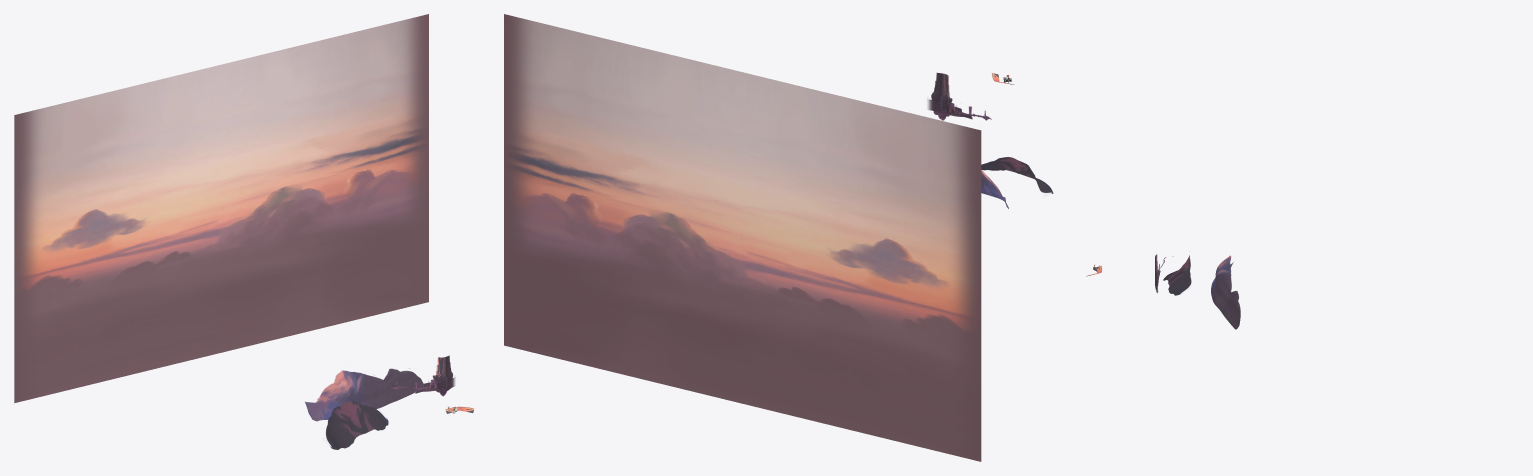
File: tableaux-factions-2048.glb
3 renders of one model, left to right at view 1: azimuth 30°, elevation 25°; view 2: azimuth 150°, elevation 25°; view 3: azimuth 270°, elevation 25°, orthographic. The views are drawn at different scales.
Visible parts, largest first — view 1: sky_bg, mountain_02, mountain_01, main_base; view 2: sky_bg, main_base, mountain_01; view 3: mountain_02, mountain_01.
Boxes of the visible parts, x1=… form: sky_bg: x1=14, y1=14, x2=428, y2=403; mountain_02: x1=305, y1=368, x2=423, y2=421; mountain_01: x1=326, y1=401, x2=388, y2=450; main_base: x1=415, y1=355, x2=455, y2=396; sky_bg: x1=504, y1=14, x2=981, y2=461; main_base: x1=928, y1=72, x2=972, y2=120; mountain_01: x1=981, y1=157, x2=1053, y2=193; mountain_02: x1=1211, y1=255, x2=1240, y2=329; mountain_01: x1=1163, y1=255, x2=1191, y2=295.
Size of the model in its own units: 42.16 by 28 by 41.96.
Materials: 9 (7 with a texture image).
